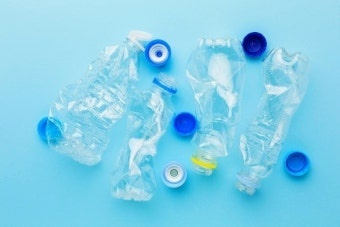plastic: (111, 73, 177, 202)
